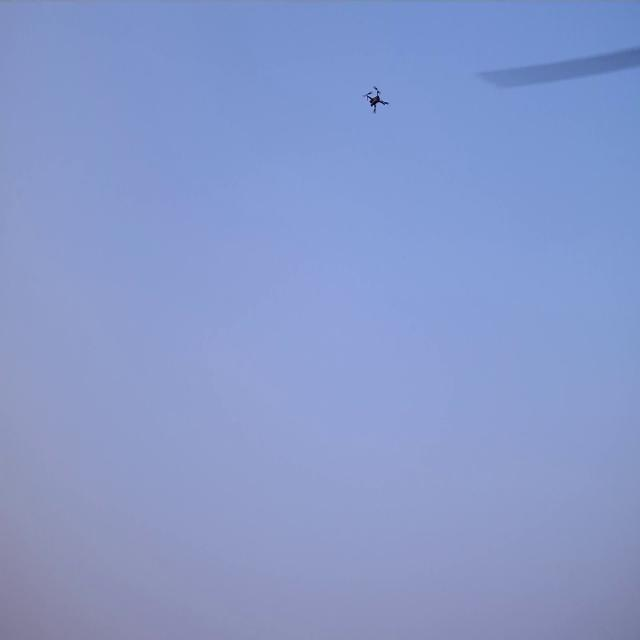UAV: (366, 87, 387, 113)
